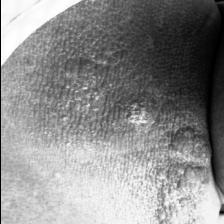Potentially Malignant Skin Tumors: (160, 120, 210, 224), (124, 96, 152, 126)
